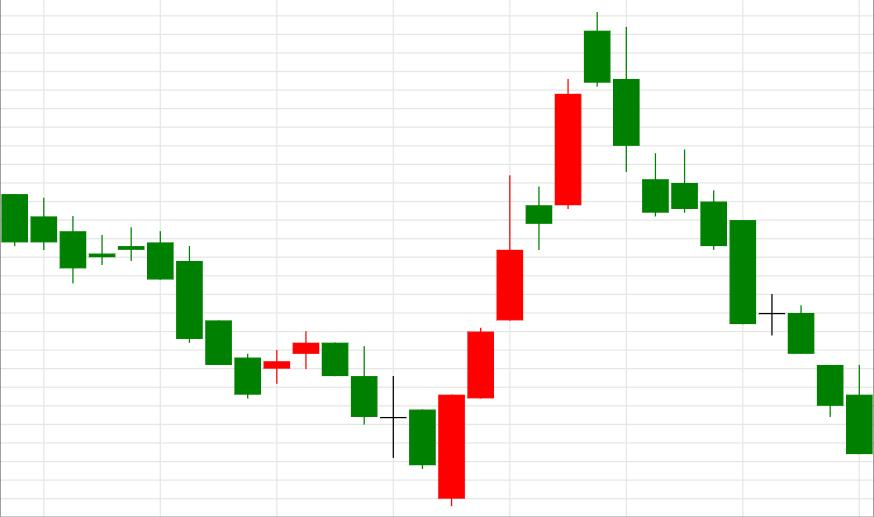three_white_soldiers_rise: (293, 174, 523, 507)
